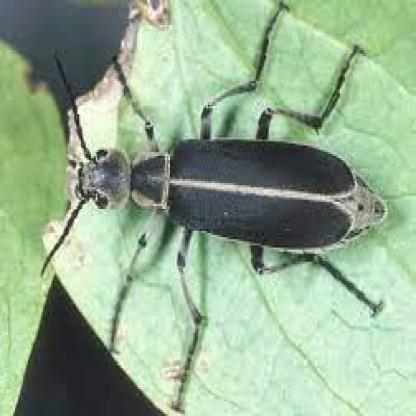blister beetle: (74, 53, 390, 274)
